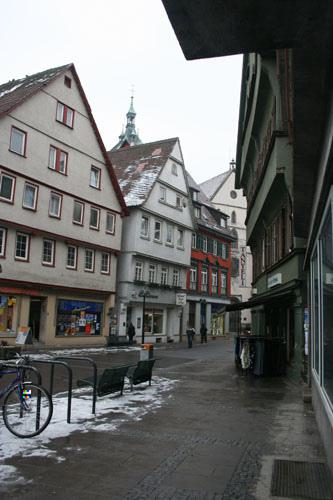car: (1, 350, 54, 439)
person: (185, 324, 197, 350), (199, 323, 211, 345), (126, 321, 137, 345)
